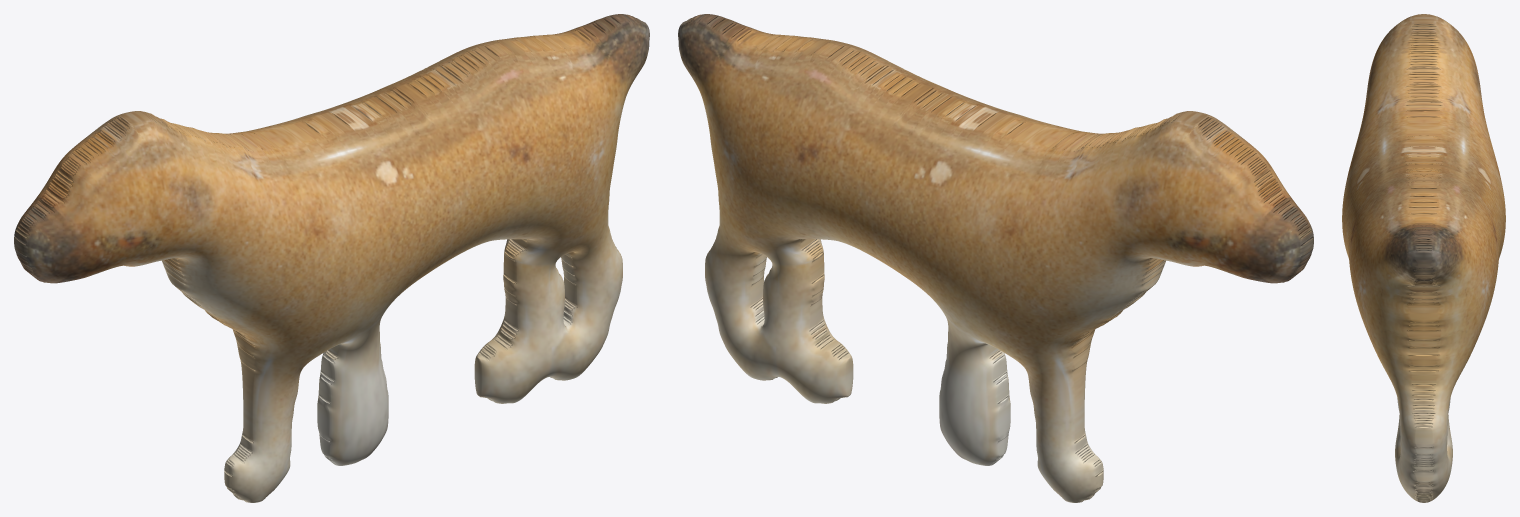
File: Hund_38872.24.glb
The picture shows the model from 3 angles, left to right: view 1: azimuth 30°, elevation 25°; view 2: azimuth 150°, elevation 25°; view 3: azimuth 270°, elevation 25°; orthographic projection. The views are drawn at different scales.
Parts seen in each view (by area): view 1: Hund; view 2: Hund; view 3: Hund.
Part boxes in pixels (<box>): Hund: <box>14,14,649,502</box>; Hund: <box>678,14,1313,502</box>; Hund: <box>1342,14,1505,502</box>.
Size of the model in its own units: 0.12 by 0.075 by 0.0325.
Materials: 1 (1 with a texture image).
